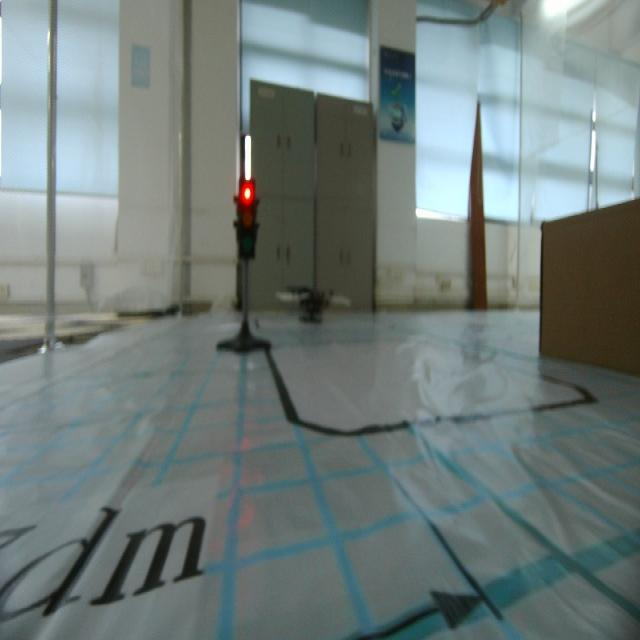red: (236, 181, 257, 256)
